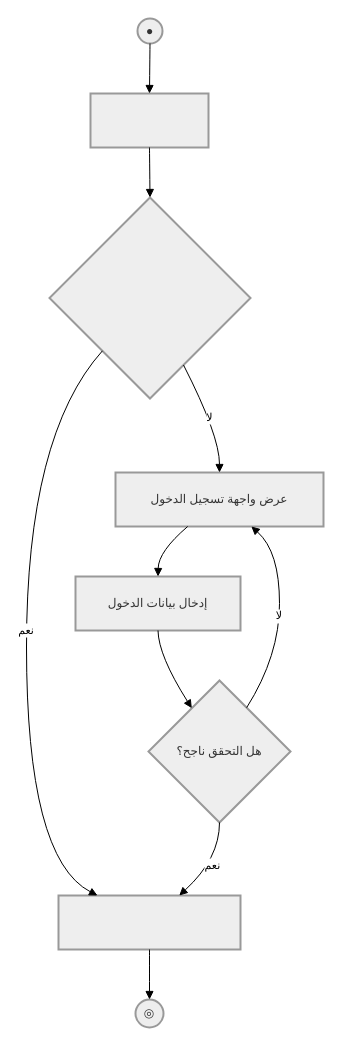
The diagram is 341 pixels wide and 1045 high, and some of its shapes have lost their labels. The centre of each missing label's shape, as x and y in pixels:
عرض الواجهة الرئيسية: point (149, 922)
فتح التطبيق: point (149, 120)
هل المستخدم مسجل الدخول؟: point (149, 297)
